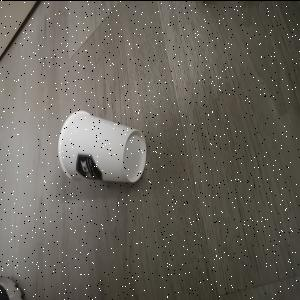Cup: (58, 109, 148, 185)
